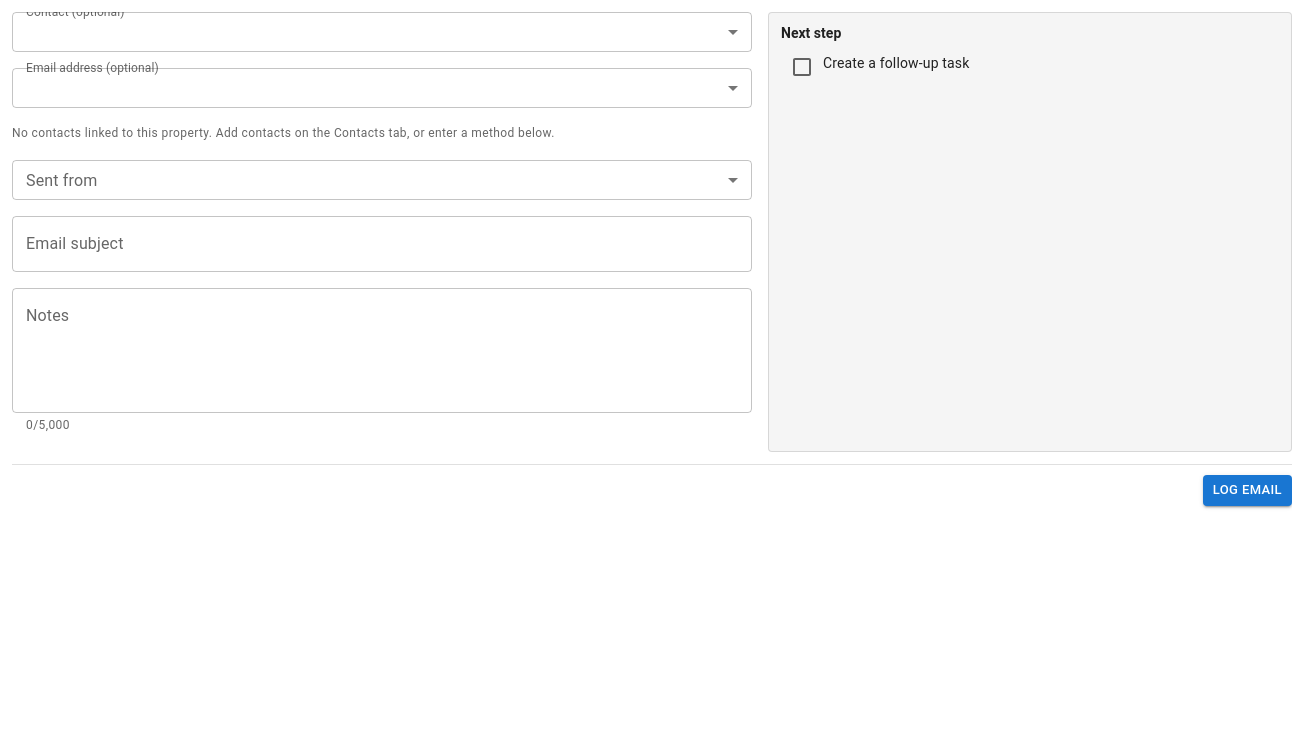
Test: LogActivityForm — mode="email" › validates empty notes and shows the generic error on non-Error rejection
Click the button with test id "email-save-btn".
click(1247, 490)  # box [1203,475,1292,506]
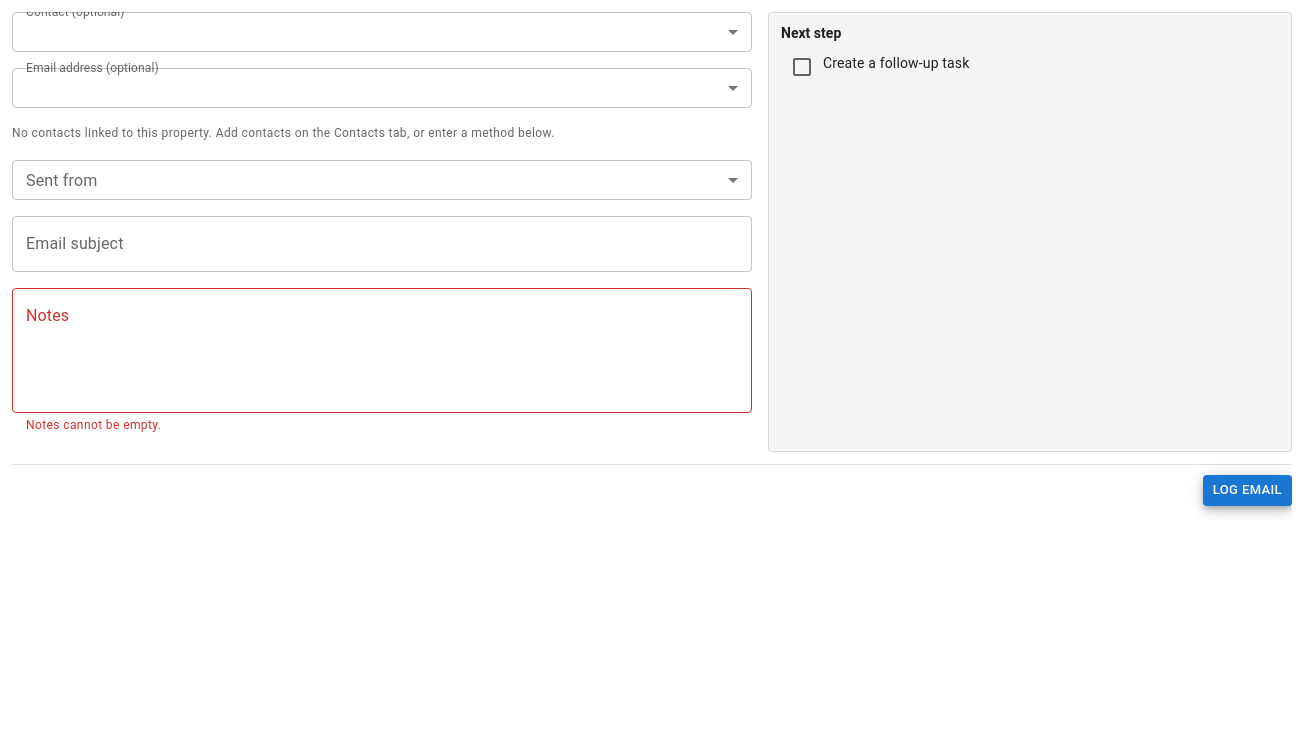
Expected: the text "Notes cannot be empty." is shown, [26,418,161,432]
